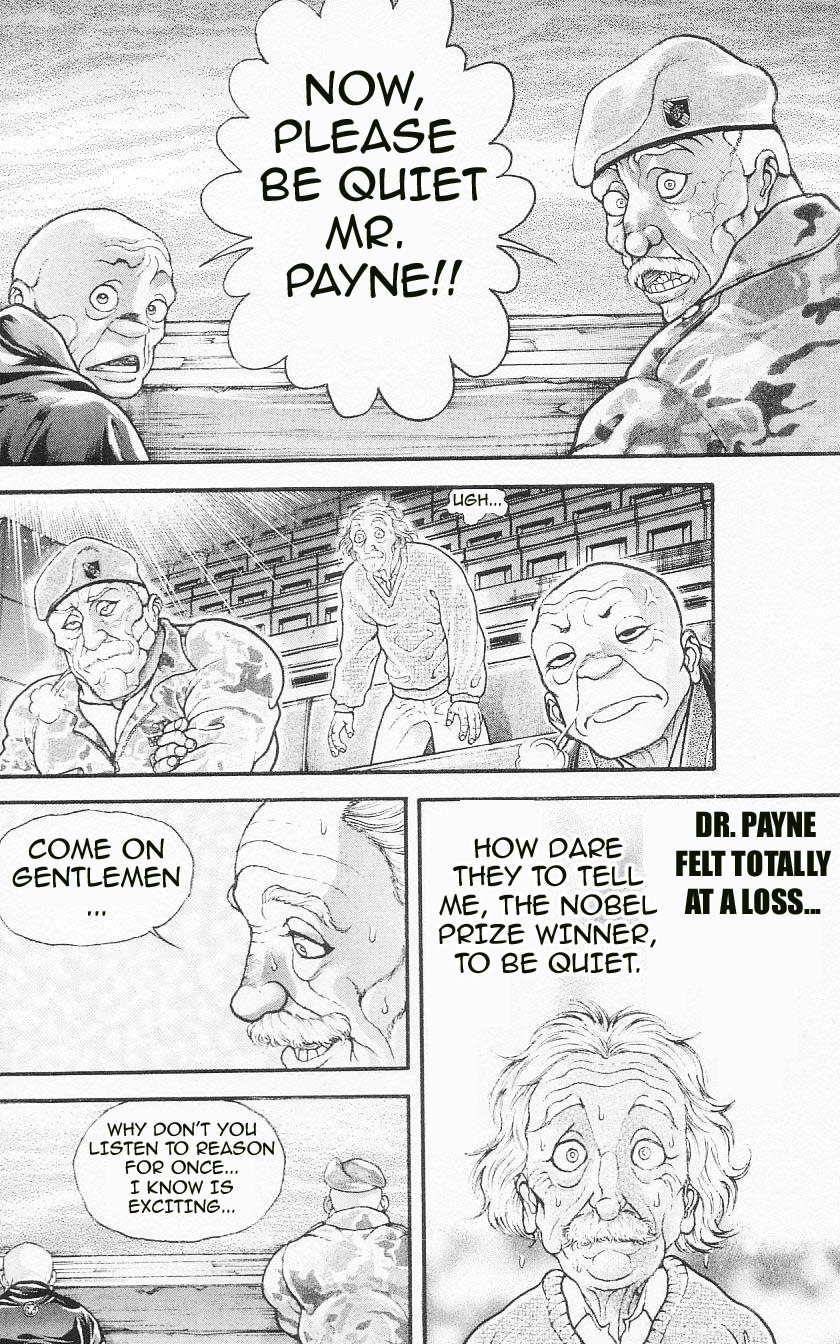Baloon: (200, 2, 531, 429), (439, 825, 657, 984), (72, 1100, 294, 1239), (1, 808, 198, 945), (674, 802, 835, 939), (445, 490, 514, 531)
Vignetta: (2, 1, 838, 469), (416, 802, 840, 1344), (1, 480, 714, 774), (1, 798, 408, 1068), (1, 1094, 412, 1344)
